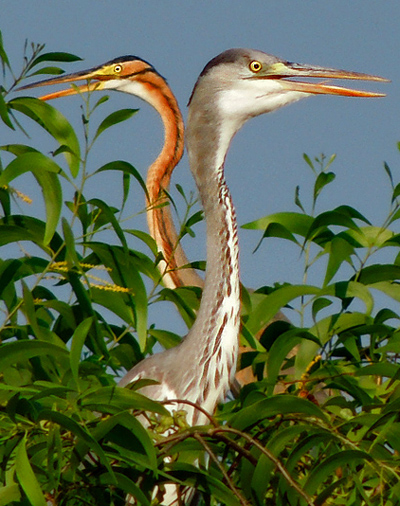heron: (151, 45, 390, 422)
